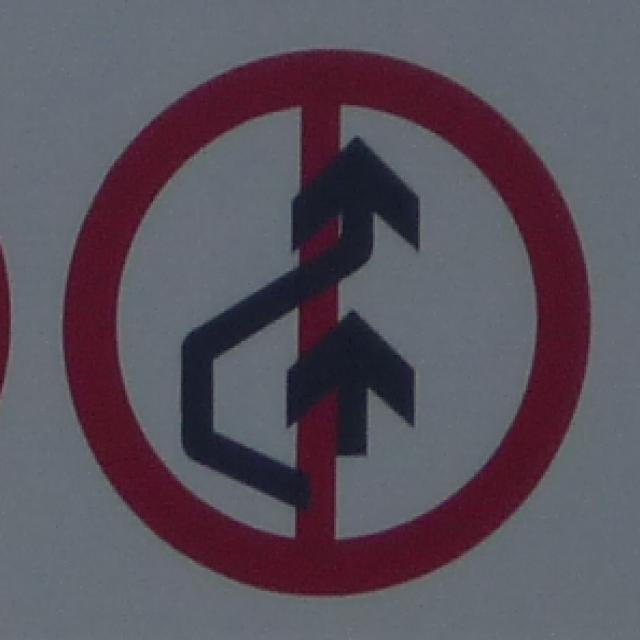Not that Direction: (56, 48, 599, 604)
